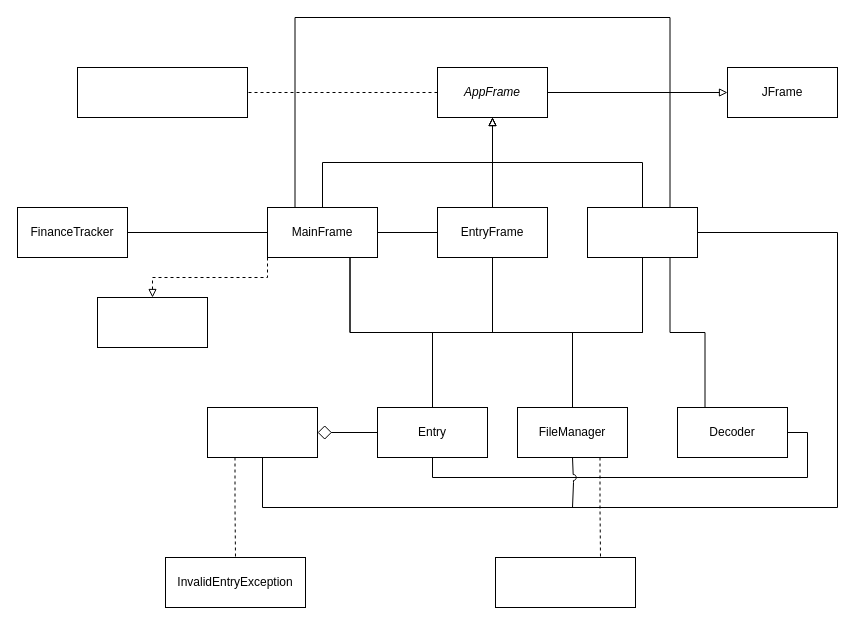
This 856x625 diagram has some shape labels left out. The shapes that lost their labels are listed below. From the top down, each one's centre as x and y in pixels, then its label:
the point at 162,92: LayoutMismatchException
the point at 642,232: DisplayFrame
the point at 152,322: ActionListener
the point at 262,432: Entires
the point at 565,582: FileFormatException
